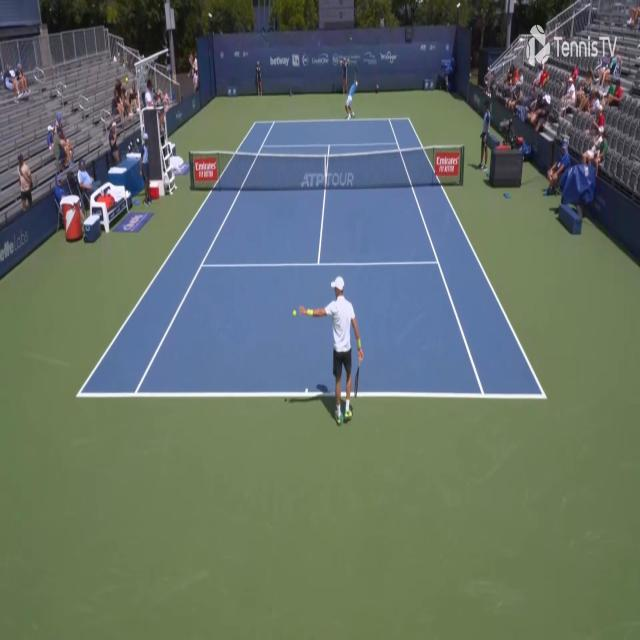tennis-player: (292, 274, 364, 429), (343, 72, 359, 122)
